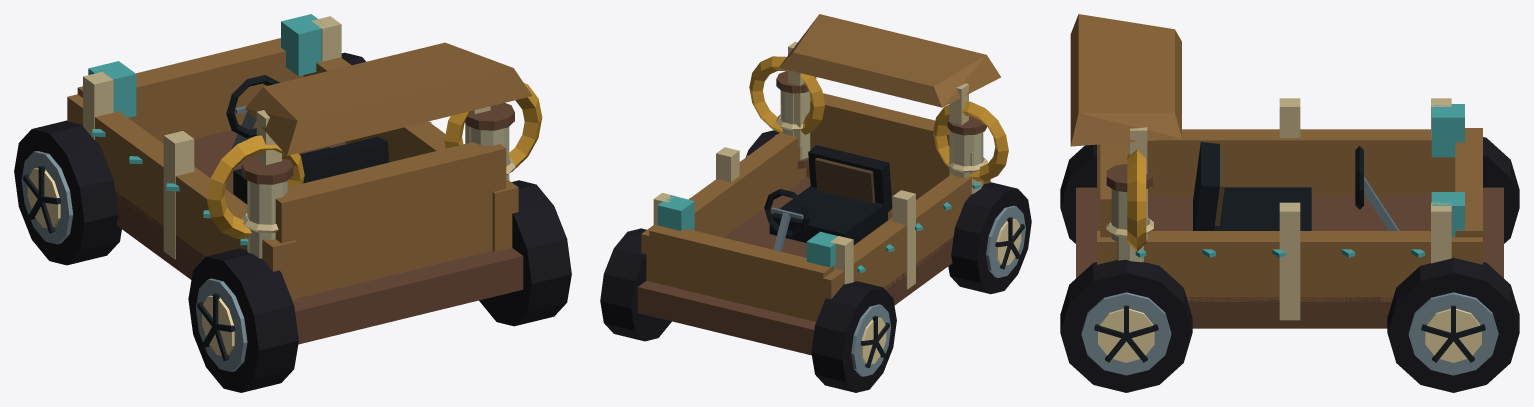
Rendered from kart.glb.
The picture shows the model from 3 angles, left to right: view 1: azimuth 30°, elevation 25°; view 2: azimuth 150°, elevation 25°; view 3: azimuth 270°, elevation 25°; orthographic projection. The views are drawn at different scales.
Visible parts, largest first — view 1: identity-carriage-carriage-timber-coach, wheel-rear-left, wheel-front-left, wheel-rear-right, identity-carriage-motif-scrolls, identity-carriage-motif-ring, identity-carriage-driver-cockpit; view 2: identity-carriage-carriage-timber-coach, identity-carriage-driver-cockpit, wheel-front-left, wheel-rear-left, identity-carriage-motif-ring, wheel-front-right, identity-carriage-motif-scrolls; view 3: identity-carriage-carriage-timber-coach, wheel-front-right, wheel-rear-right, identity-carriage-driver-cockpit, identity-carriage-motif-scrolls, wheel-front-left, wheel-rear-left, identity-carriage-motif-ring, identity-carriage-motif-suture.
Boxes of the visible parts, x1,y1,x2,y2 form: identity-carriage-carriage-timber-coach: (67, 14, 532, 344); wheel-rear-left: (188, 248, 298, 392); wheel-front-left: (14, 120, 121, 265); wheel-rear-right: (479, 180, 571, 326); identity-carriage-motif-scrolls: (241, 103, 515, 258); identity-carriage-motif-ring: (207, 82, 542, 238); identity-carriage-driver-cockpit: (226, 75, 388, 203); identity-carriage-carriage-timber-coach: (637, 14, 1000, 355); identity-carriage-driver-cockpit: (764, 145, 892, 251); wheel-front-left: (811, 281, 896, 392); wheel-rear-left: (948, 182, 1031, 294); identity-carriage-motif-ring: (749, 56, 1008, 181); wheel-front-right: (600, 228, 671, 341); identity-carriage-motif-scrolls: (775, 71, 988, 193); identity-carriage-carriage-timber-coach: (1070, 14, 1503, 328); wheel-front-right: (1387, 257, 1519, 392); wheel-rear-right: (1060, 260, 1192, 392); identity-carriage-driver-cockpit: (1193, 142, 1399, 230); identity-carriage-motif-scrolls: (1106, 142, 1153, 262); wheel-front-left: (1483, 137, 1519, 243); wheel-rear-left: (1060, 144, 1096, 243); identity-carriage-motif-ring: (1127, 149, 1146, 251); identity-carriage-motif-suture: (1135, 249, 1424, 257).
Size of the model in its own units: 2.09 by 1.63 by 2.64.
